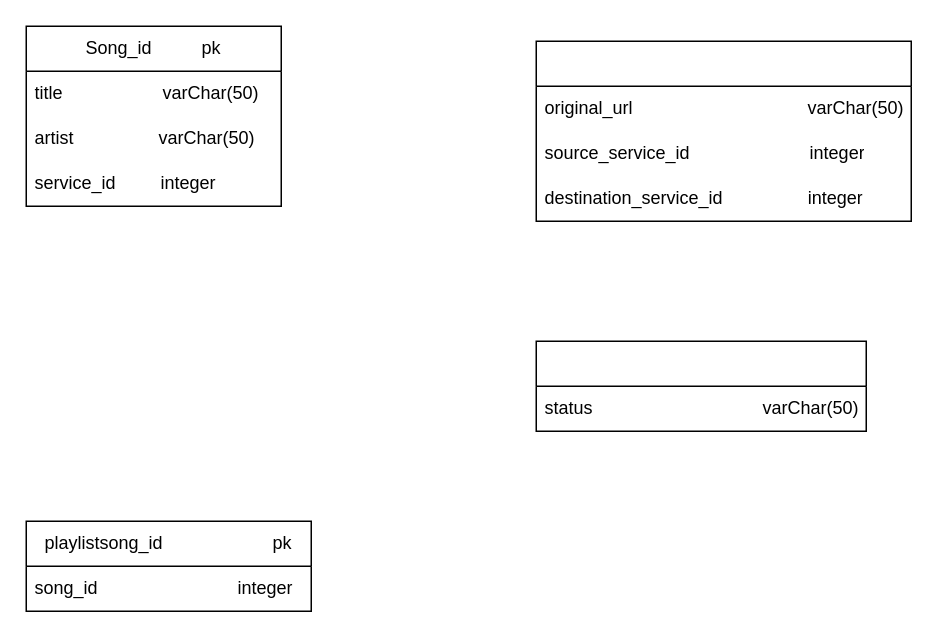
Image size: 938x638. Some labels were removed from this diagram. The shapes that lost their labels are listed below. From the top down, each one's box as (x1, y1, x2, y2) in pixels, then its label:
(535, 40, 911, 221): Playlist_id pk
(535, 340, 866, 431): matchStatus_id pk
